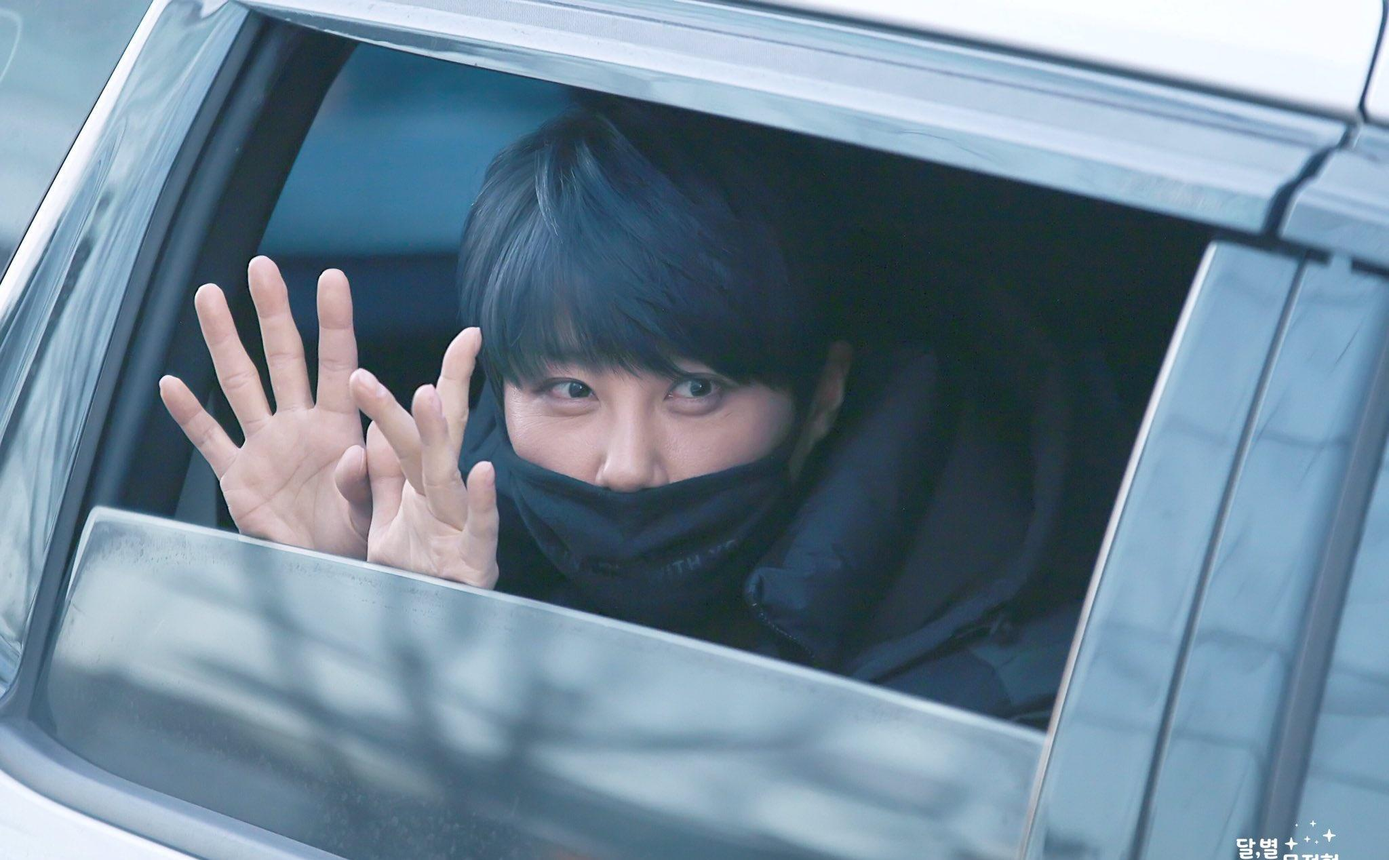WRONG: (489, 293, 821, 625)
